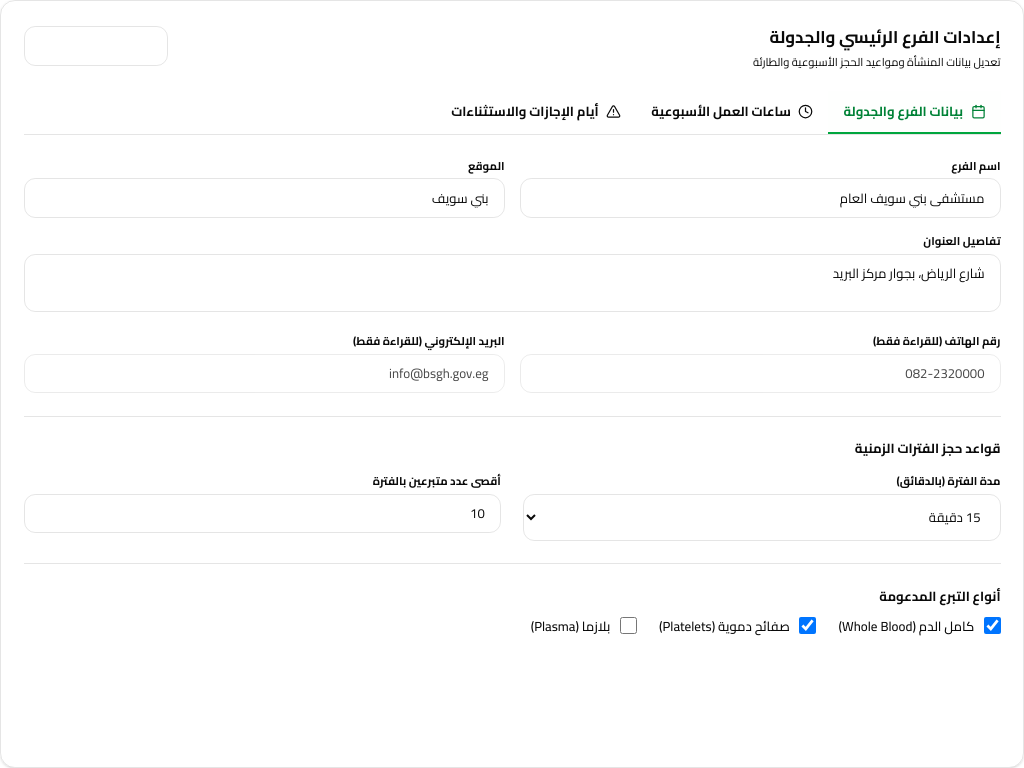
Test case: FacilityTab Component › navigates subtabs
This screenshot has width=1024, height=768.
Note: Navigate to Weekly Hours
Click the button "ساعات العمل الأسبوعية": [732, 113] box [636,91,828,134]
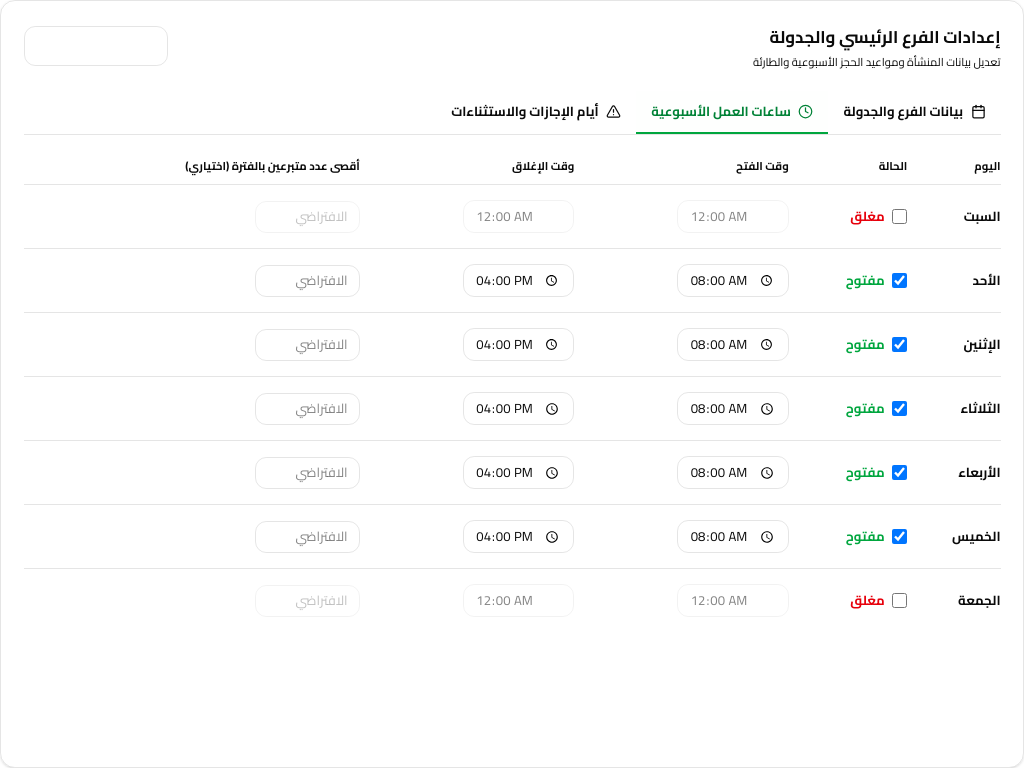
Expected: the text "الأحد" is shown, [907,248,1000,312]
Expected: the text "السبت" is shown, [907,184,1000,248]
Note: Navigate to Holidays & Exceptions
Click the button "أيام الإجازات والاستثناءات": [536, 113] box [436,91,636,134]
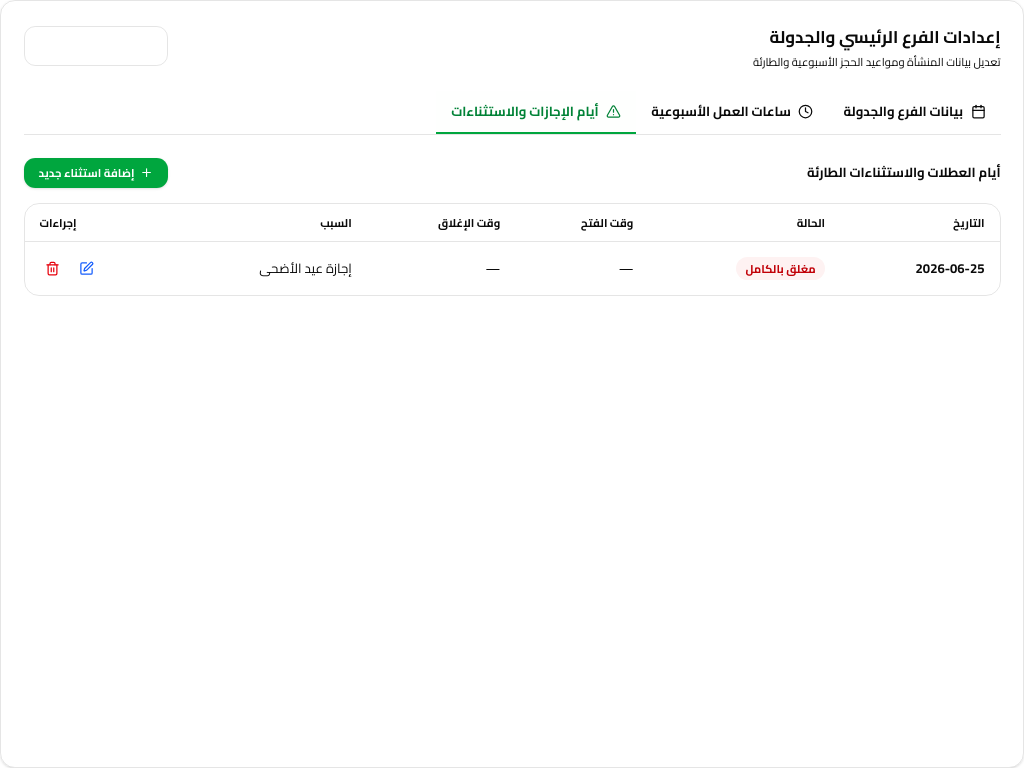
Expected: the text "إجازة عيد الأضحى" is shown, [170,242,367,295]
